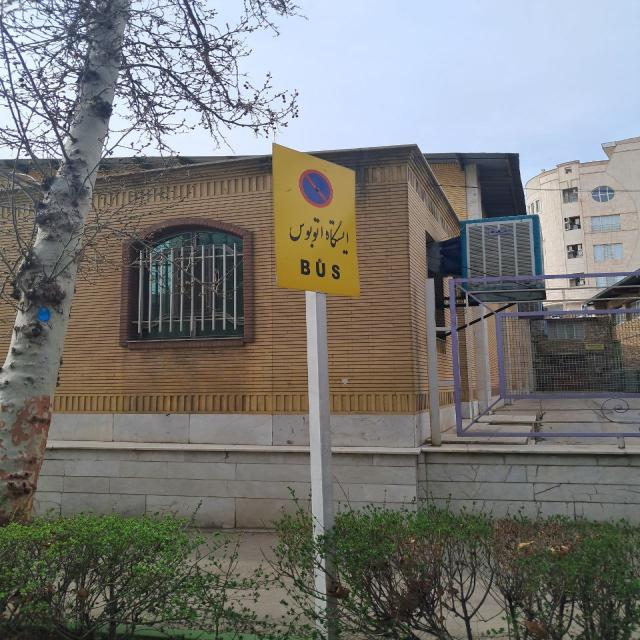bus station: (275, 146, 369, 294)
